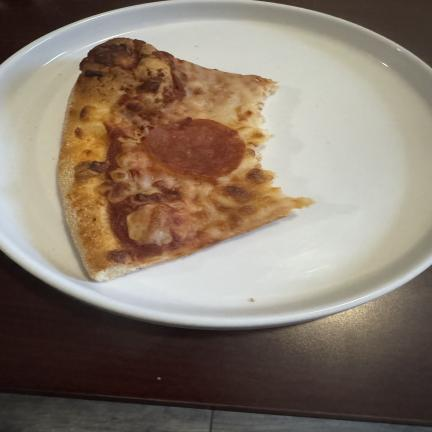pizza: (59, 38, 312, 280)
plate: (0, 0, 431, 328)
